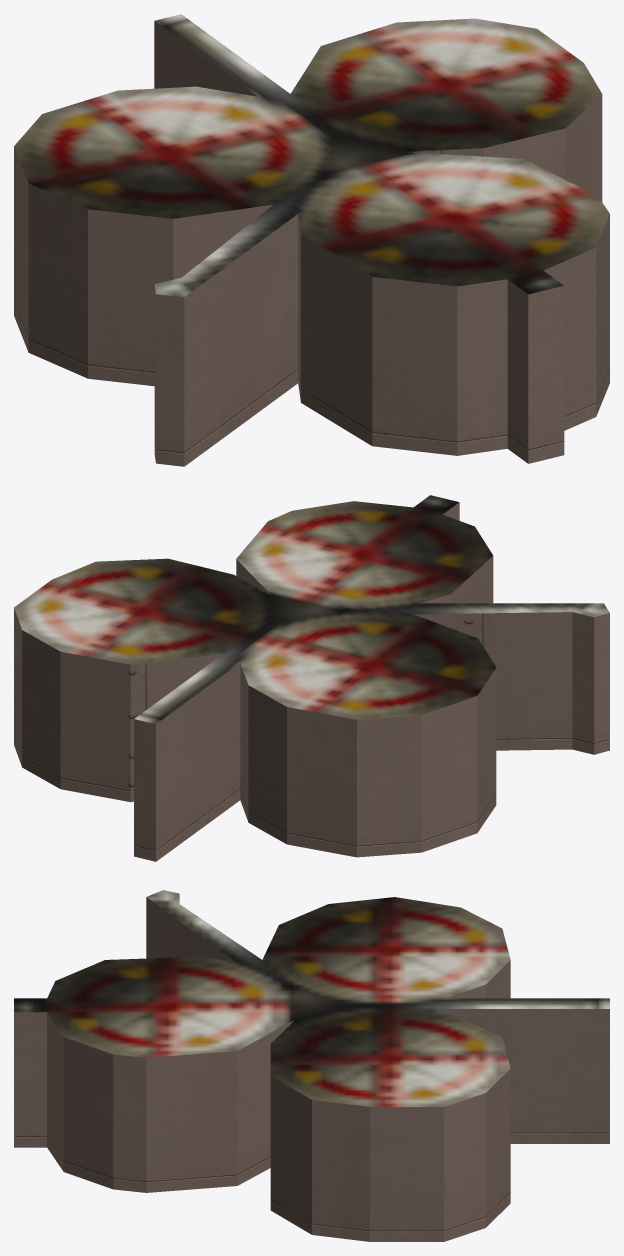
File: fuel_tank_medium_25.glb
The picture shows the model from 3 angles, top to bottom: view 1: azimuth 30°, elevation 25°; view 2: azimuth 150°, elevation 25°; view 3: azimuth 270°, elevation 25°; orthographic projection. The views are drawn at different scales.
Visible parts, largest first — view 1: buildings/saxarba/fuel_tanks/fuel_tank_medium_25; view 2: buildings/saxarba/fuel_tanks/fuel_tank_medium_25; view 3: buildings/saxarba/fuel_tanks/fuel_tank_medium_25.
Boxes of the visible parts, <box> form: buildings/saxarba/fuel_tanks/fuel_tank_medium_25: <box>14,14,609,466</box>; buildings/saxarba/fuel_tanks/fuel_tank_medium_25: <box>14,495,609,861</box>; buildings/saxarba/fuel_tanks/fuel_tank_medium_25: <box>14,890,609,1241</box>.
Size of the model in its own units: 62 by 18 by 72.
